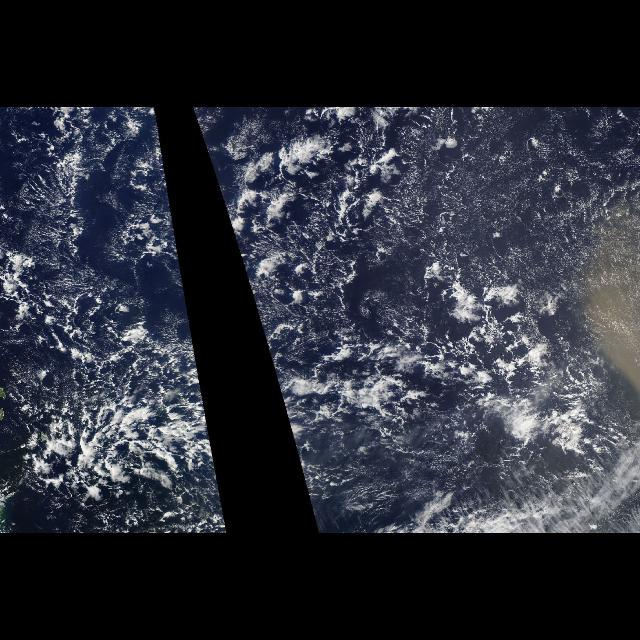Fish: (276, 386, 464, 482), (54, 386, 218, 482)
Gravel: (239, 252, 579, 498), (8, 252, 220, 526), (192, 108, 428, 246), (9, 108, 179, 246)
Sugar: (195, 109, 639, 514), (0, 116, 224, 514)
